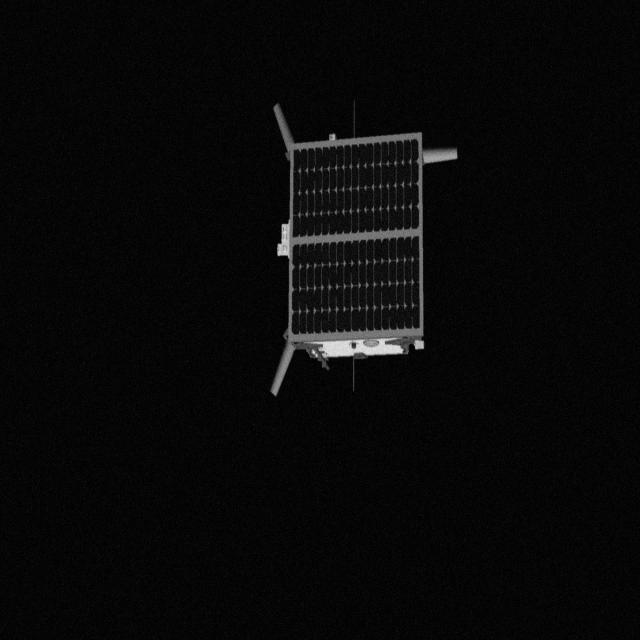satellite: (250, 100, 454, 410)
